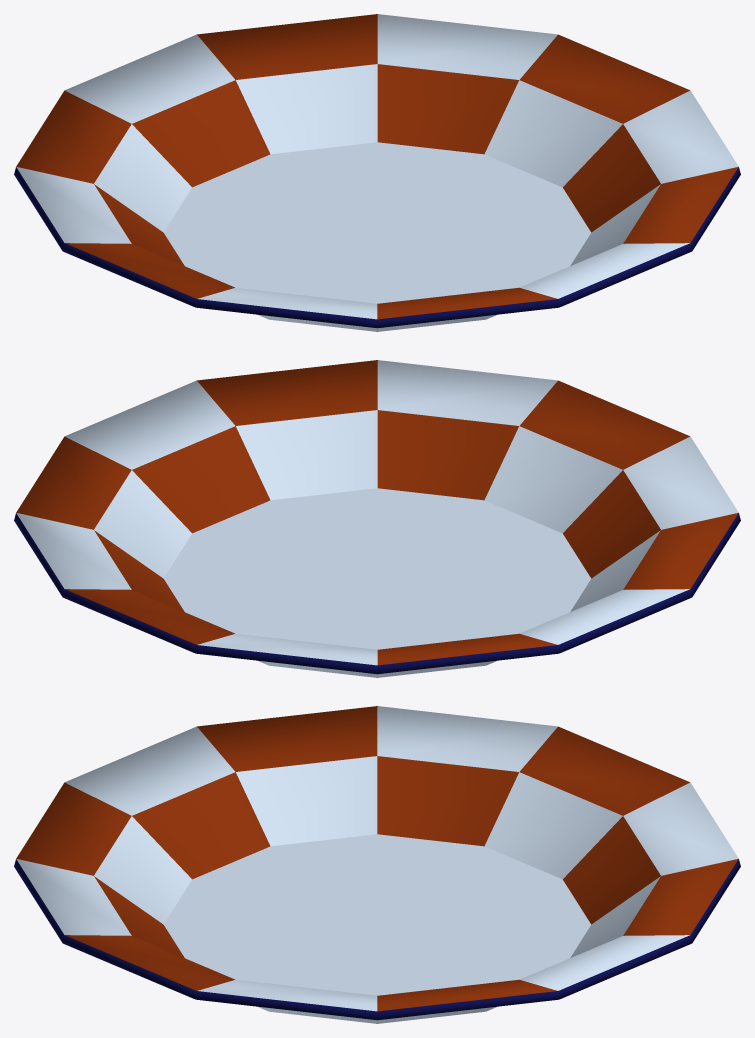
The model's file is piring.fbx.
3 renders of one model, top to bottom at view 1: azimuth 30°, elevation 25°; view 2: azimuth 150°, elevation 25°; view 3: azimuth 270°, elevation 25°, orthographic.
Visible parts, largest first — view 1: piring; view 2: piring; view 3: piring.
Boxes of the visible parts, box(x1,y1,x2,y2) form: piring: box(14, 14, 740, 331); piring: box(14, 360, 740, 677); piring: box(14, 706, 740, 1023).
Size of the model in its own units: 51.39 by 5.79 by 51.39.
